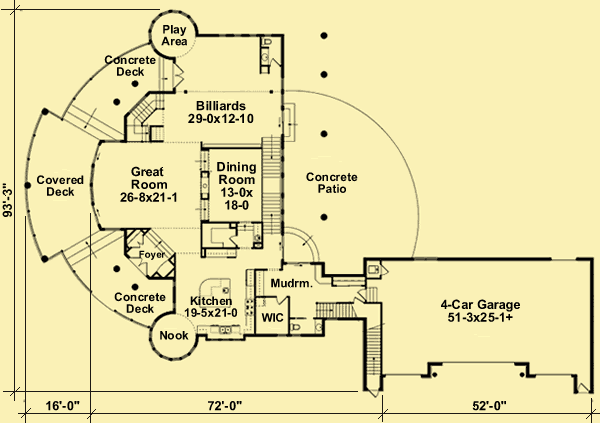door: (125, 257, 150, 278), (170, 62, 188, 90)
kitchen_bar: (196, 276, 235, 307)
small_sink: (260, 46, 270, 67)
stairs: (313, 299, 384, 381), (260, 132, 287, 237), (125, 91, 169, 144)
